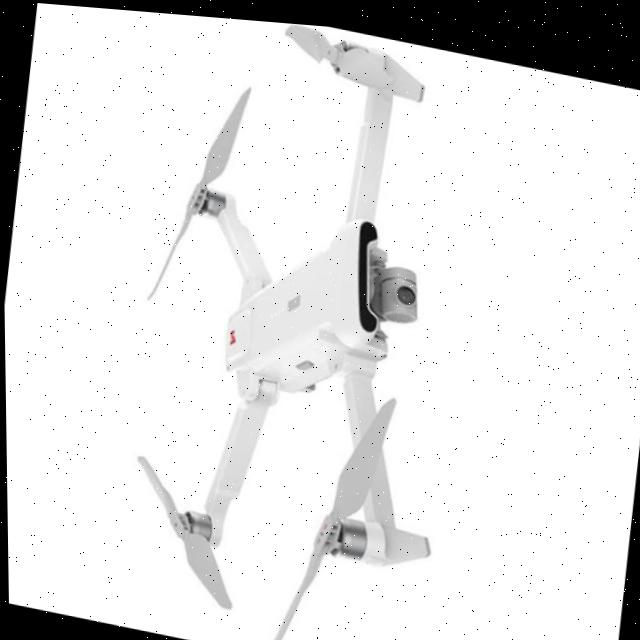drones: (100, 6, 502, 640)
